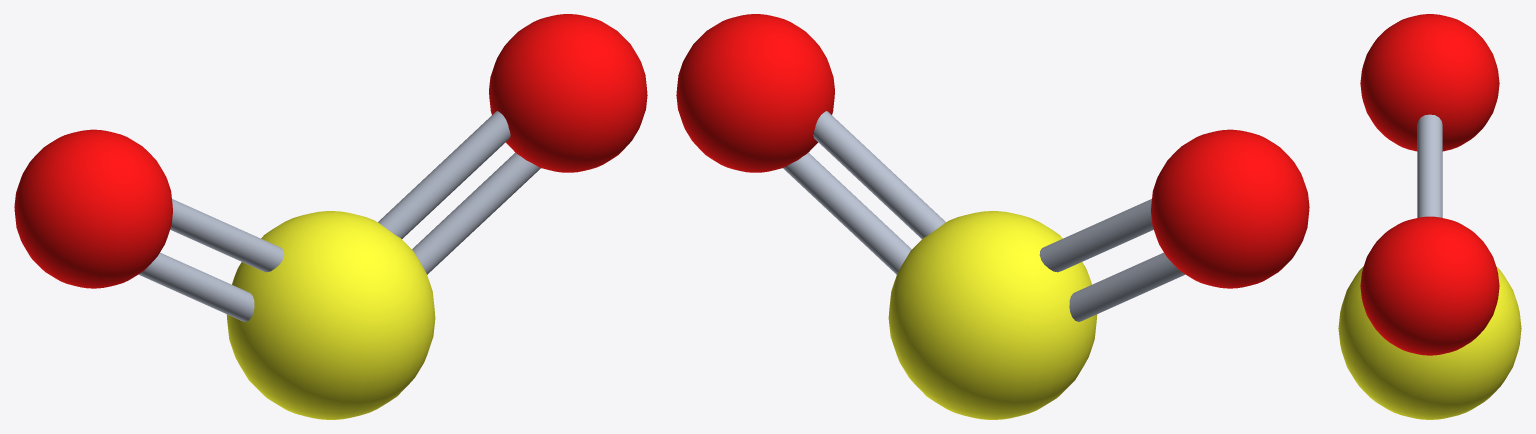
3 renders of one model, left to right at view 1: azimuth 30°, elevation 25°; view 2: azimuth 150°, elevation 25°; view 3: azimuth 270°, elevation 25°, orthographic. The views are drawn at different scales.
Parts seen in each view (by area): view 1: O (×2), S, bond (×4); view 2: O (×2), S, bond (×4); view 3: O (×2), S, bond.
Boxes of the visible parts, bbox=[...] form: O (×2): bbox=[14, 14, 647, 288]; S: bbox=[226, 211, 435, 419]; bond (×4): bbox=[139, 111, 540, 321]; O (×2): bbox=[676, 14, 1309, 288]; S: bbox=[888, 211, 1097, 419]; bond (×4): bbox=[783, 111, 1184, 321]; O (×2): bbox=[1360, 14, 1499, 355]; S: bbox=[1338, 266, 1521, 419]; bond: bbox=[1417, 114, 1442, 217].
Bounding box in the file's own units: 0.22 × 0.1137 × 0.0651.
